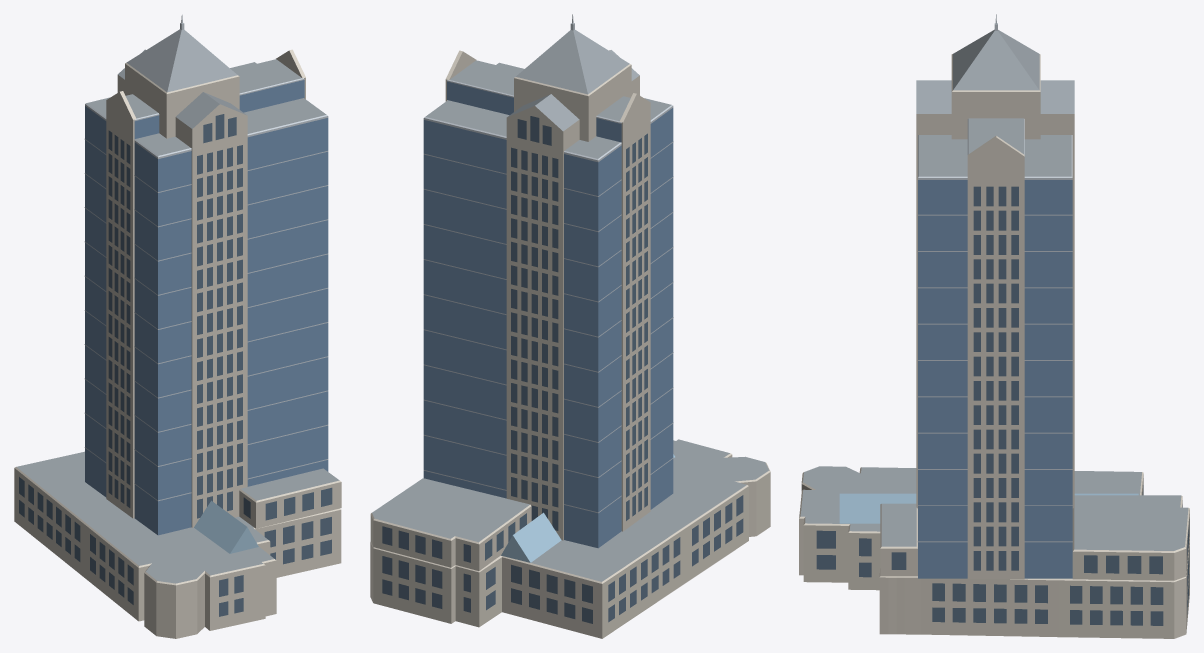
Rendered from kc-town-pavilion.glb.
3 renders of one model, left to right at view 1: azimuth 30°, elevation 25°; view 2: azimuth 150°, elevation 25°; view 3: azimuth 270°, elevation 25°, orthographic. The views are drawn at different scales.
Visible parts, largest first — view 1: Town Pavilion; view 2: Town Pavilion; view 3: Town Pavilion.
Part boxes in pixels (x1,y1,x2,y2): Town Pavilion: [14, 14, 341, 638]; Town Pavilion: [370, 14, 770, 638]; Town Pavilion: [799, 14, 1189, 638].
Bounding box in the file's own units: 76.6 × 176 × 110.
